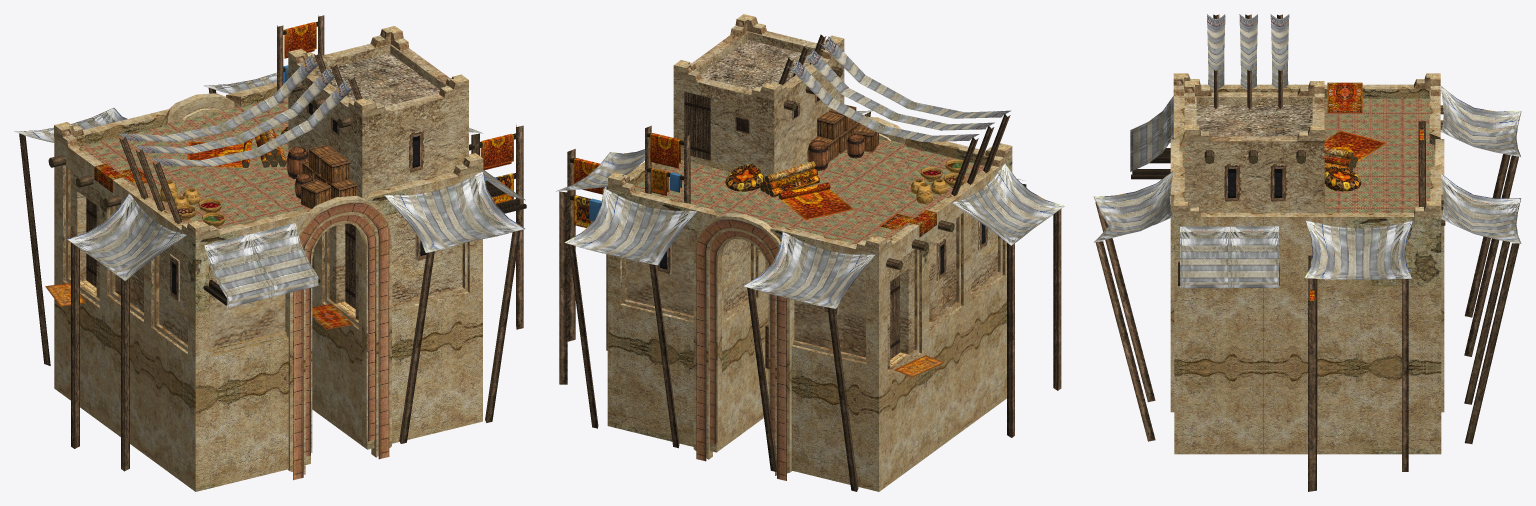
The model's file is pers_market.glb.
3 views of the same model, side by side, from view 1: azimuth 30°, elevation 25°; view 2: azimuth 150°, elevation 25°; view 3: azimuth 270°, elevation 25° (orthographic). The views are drawn at different scales.
Bounding box in the file's own units: 25.46 × 19.15 × 21.6.
Materials: 1 (1 with a texture image).
